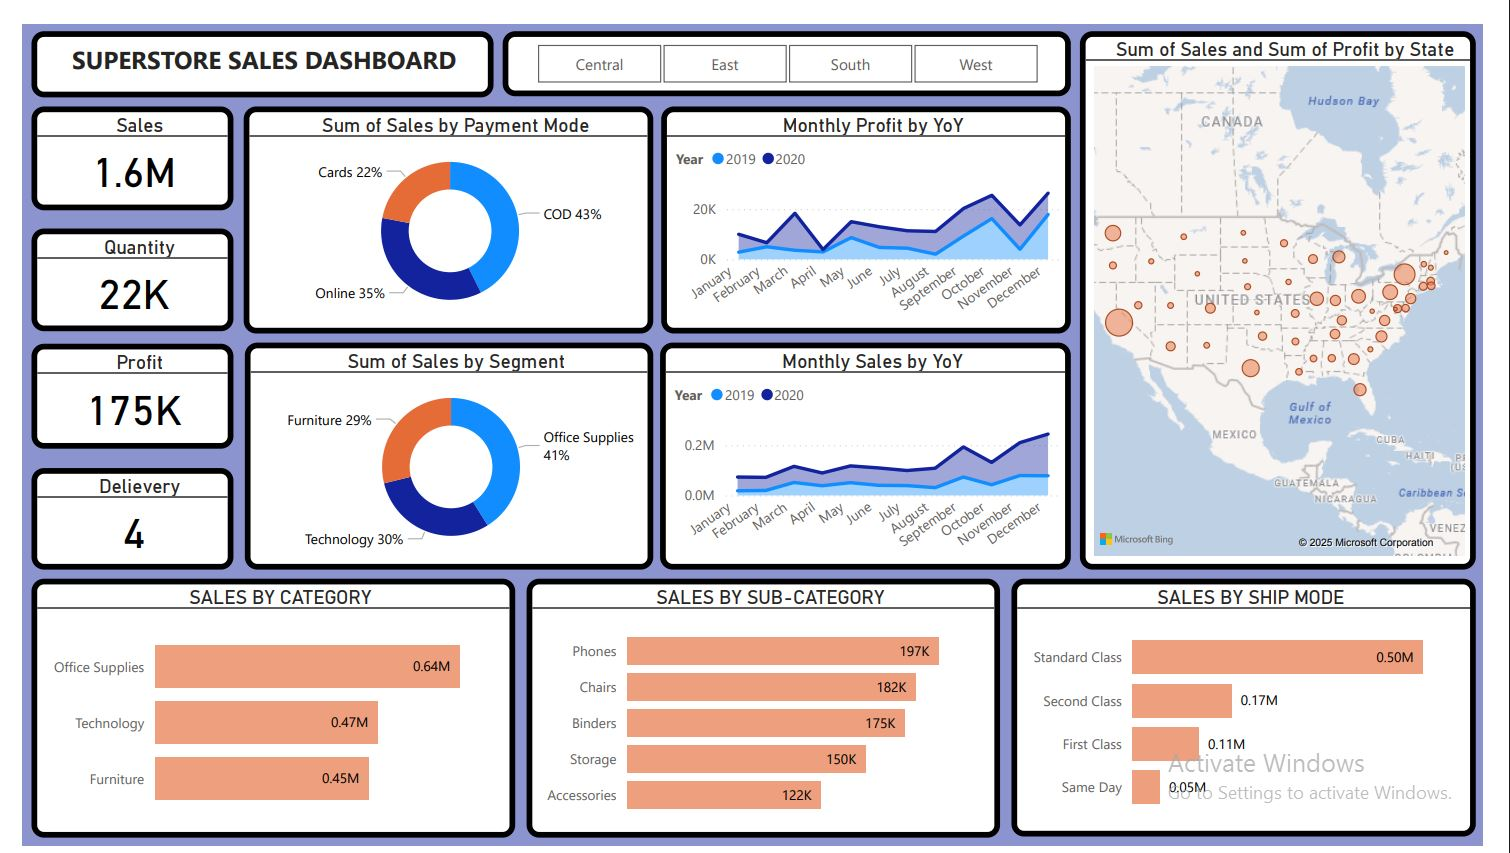

The page's visual inventory and layout, read from the dashboard file:
{"tool":"powerbi","page":{"name":"Page 1","canvas":[1280,720],"ordinal":0},"visuals":[{"type":"clusteredBarChart","title":"SALES BY CATEGORY","fields":{"Category":["Sheet1.Category"],"Y":["Sum(Sheet1.Sales)"]},"box":[8.3,486.4,423.2,226.5],"z":0},{"type":"clusteredBarChart","title":"SALES BY SUB-CATEGORY","fields":{"Y":["Sum(Sheet1.Sales)"],"Category":["Sheet1.Sub-Category"]},"box":[442.3,486.4,414.8,226.5],"z":1000},{"type":"clusteredBarChart","title":"SALES BY SHIP MODE","fields":{"Y":["Sum(Sheet1.Sales)"],"Category":["Sheet1.Ship Mode"]},"box":[866.6,486.4,407.7,225.3],"z":2000},{"type":"stackedAreaChart","title":"Monthly Sales by YoY","fields":{"Y":["Sum(Sheet1.Sales)"],"Category":["Sheet1.Order Date.Variation.Date Hierarchy.Month","Sheet1.Order Date.Variation.Date Hierarchy.Day"],"Series":["Sheet1.Order Date.Variation.Date Hierarchy.Year"]},"box":[559.1,278.9,360,199.1],"z":3000},{"type":"stackedAreaChart","title":"Monthly Profit by YoY","fields":{"Category":["Sheet1.Order Date.Variation.Date Hierarchy.Month","Sheet1.Order Date.Variation.Date Hierarchy.Day"],"Series":["Sheet1.Order Date.Variation.Date Hierarchy.Year"],"Y":["Sum(Sheet1.Profit)"]},"box":[560.3,71.5,358.8,199.1],"z":4000},{"type":"map","fields":{"Category":["Sheet1.State"],"Size":["Sum(Sheet1.Sales)"]},"box":[927.4,6,346.9,472.1],"z":5000},{"type":"donutChart","fields":{"Category":["Sheet1.Category"],"Y":["Sum(Sheet1.Sales)"]},"box":[194.7,278.7,358.5,198.9],"z":6000},{"type":"donutChart","fields":{"Category":["Sheet1.Payment Mode"],"Y":["Sum(Sheet1.Sales)"]},"box":[194.3,71.5,358.8,199.1],"z":7000},{"type":"slicer","fields":{"Values":["Sheet1.Region"]},"box":[420.8,6,498.3,57.2],"z":8000},{"type":"card","title":"Profit","fields":{"Values":["Sum(Sheet1.Profit)"]},"box":[8.3,280.1,176.4,91.8],"z":9000},{"type":"card","title":"Quantity","fields":{"Values":["Sum(Sheet1.Quantity)"]},"box":[8.3,178.8,176.4,90.6],"z":10000},{"type":"card","title":"Sales","fields":{"Values":["Sum(Sheet1.Sales)"]},"box":[8.3,71.5,176.4,91.8],"z":11000},{"type":"card","title":"Delievery","fields":{"Values":["Avg(Sheet1.AvgDelivery)"]},"box":[8.3,388.6,176.4,89.4],"z":12000},{"type":"textbox","box":[8.4,6,404.3,57.6],"z":13000}]}

Visuals, with their boxes in screenshot pixels (x1, y1, x2, y2), scaled from the page's 1280x720 canvas onto the 1510x853 screenshot:
"SALES BY CATEGORY" clusteredBarChart: 10, 576, 509, 845
"SALES BY SUB-CATEGORY" clusteredBarChart: 522, 576, 1011, 845
"SALES BY SHIP MODE" clusteredBarChart: 1022, 576, 1503, 843
"Monthly Sales by YoY" stackedAreaChart: 660, 330, 1084, 566
"Monthly Profit by YoY" stackedAreaChart: 661, 85, 1084, 321
map - Sheet1.State x Sum(Sheet1.Sales): 1094, 7, 1503, 566
donutChart - Sheet1.Category x Sum(Sheet1.Sales): 230, 330, 653, 566
donutChart - Sheet1.Payment Mode x Sum(Sheet1.Sales): 229, 85, 652, 321
slicer - Sheet1.Region: 496, 7, 1084, 75
"Profit" card: 10, 332, 218, 441
"Quantity" card: 10, 212, 218, 319
"Sales" card: 10, 85, 218, 193
"Delievery" card: 10, 460, 218, 566
textbox: 10, 7, 487, 75
